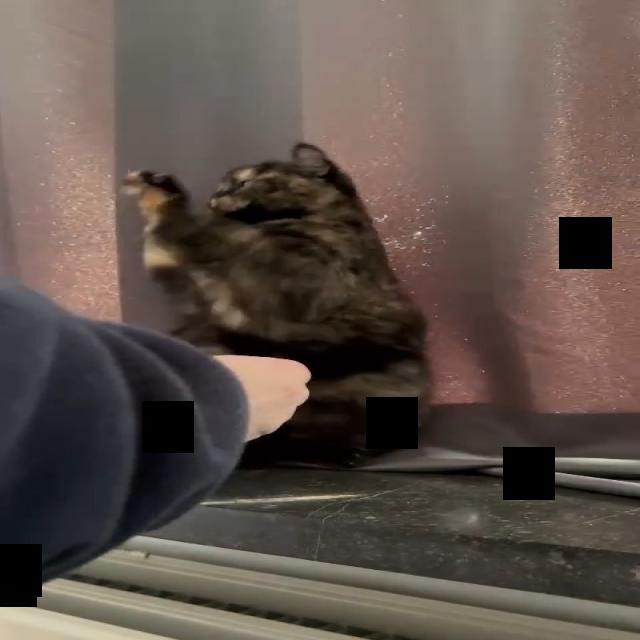authorized: (120, 141, 433, 469)
